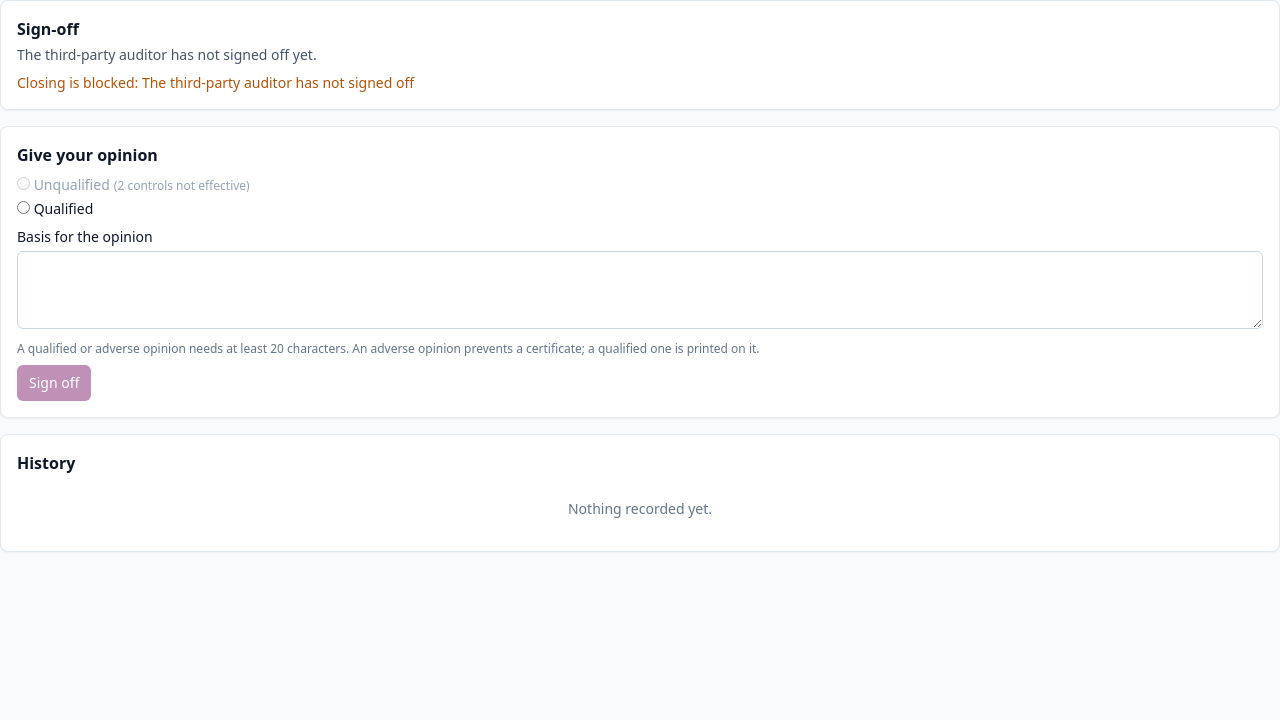
the auditor can only pick an opinion that is allowed and must explain it
The image size is (1280, 720).
Expected: the text "The third-party auditor has not signed off yet." is shown, [17,45,317,64]
Expected: the radio button labelled "Unqualified(2 controls not effective)" is disabled, [17,177,30,190]
Click the radio button labelled "Qualified" at x=24, y=208, box [17,201,30,214]
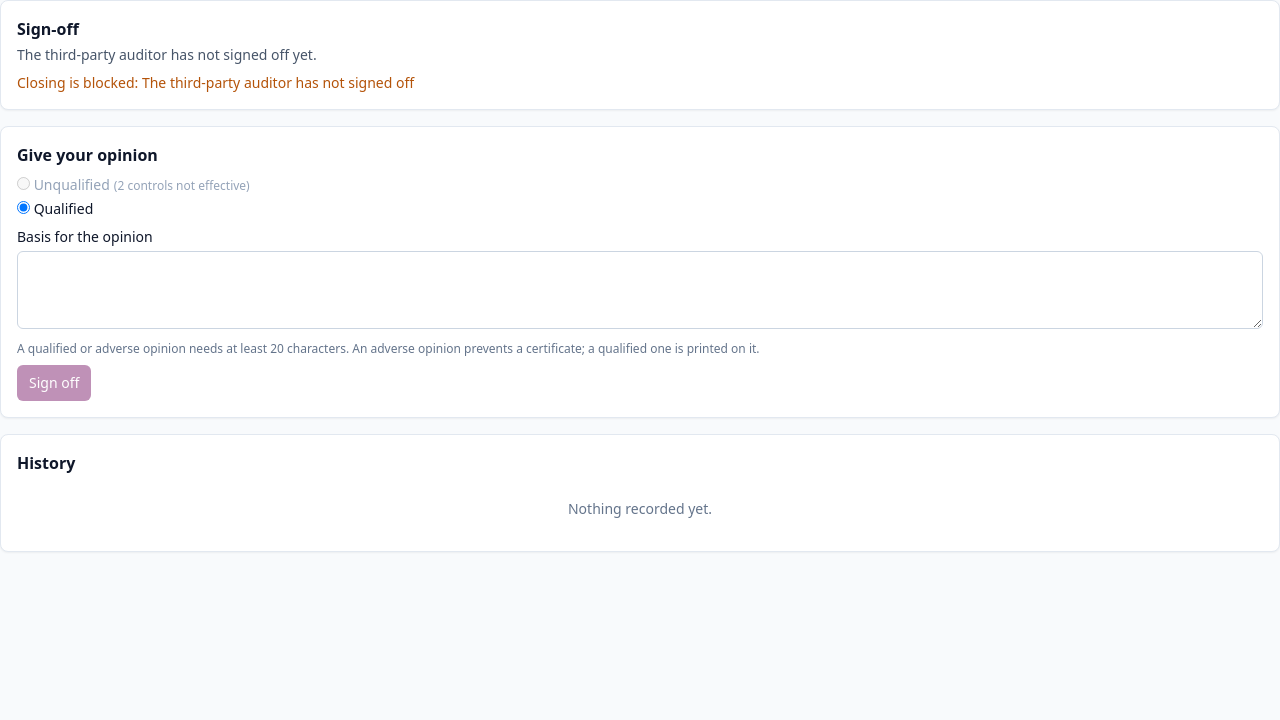
Expected: the button "Sign off" is disabled, [17,365,91,401]
Type "Two exceptions noted in access reviews" into the text box labelled "Basis for the opinion" at x=640, y=290, box [17,251,1263,329]
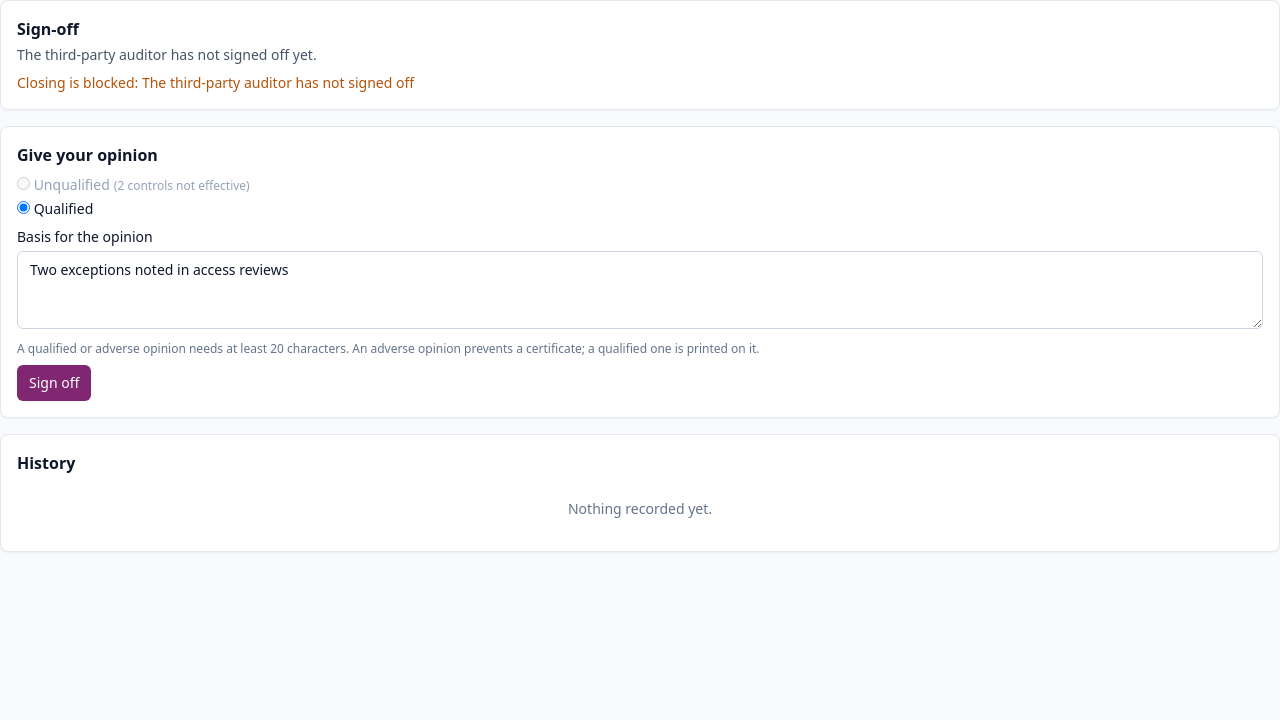
Now the button "Sign off" is enabled, box [17,365,91,401]
